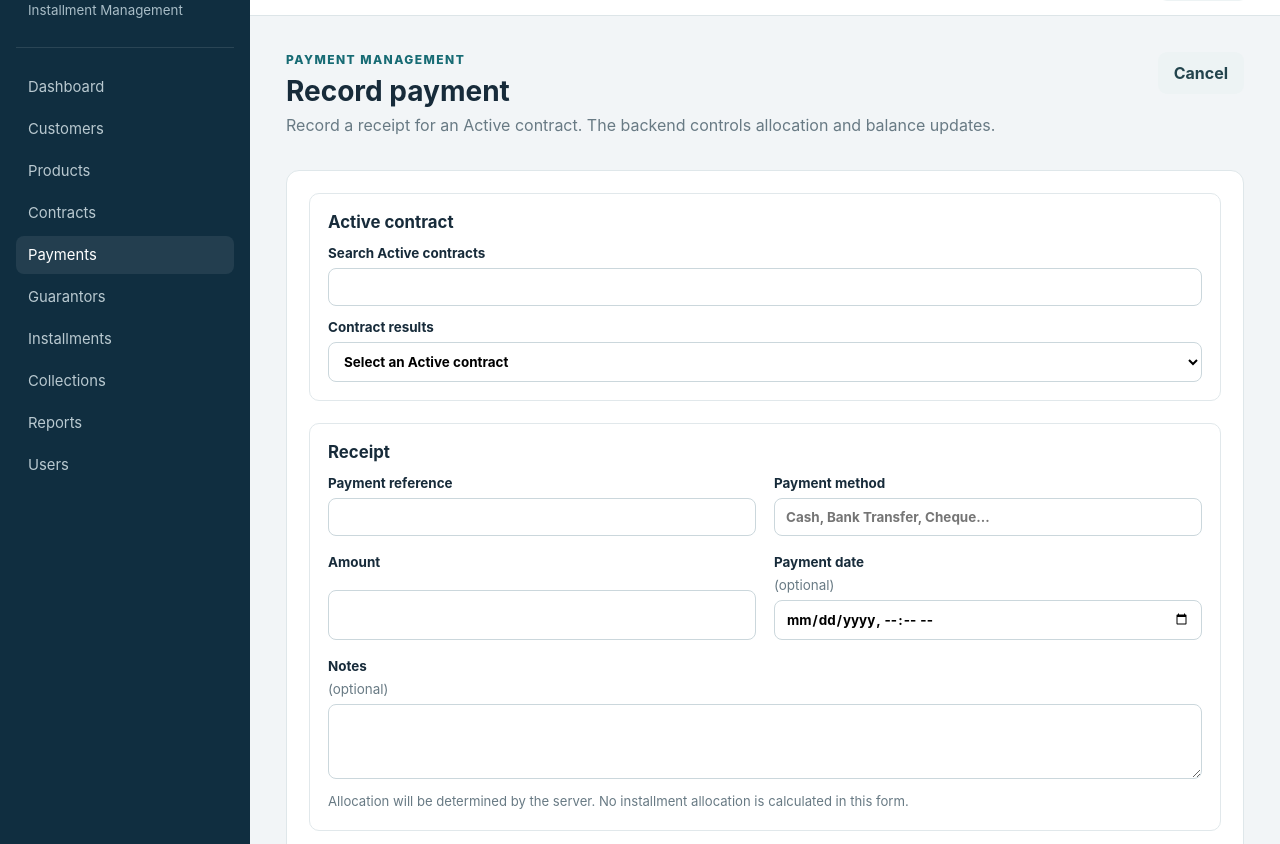
Test: Payments module › validates required and decimal fields without calculating allocations
Expected: the heading "Record payment" is shown, [286,74,510,108]
In the field labelled "Amount": (542,615) [328,590,756,640], type "1.234"
(page scrolled)
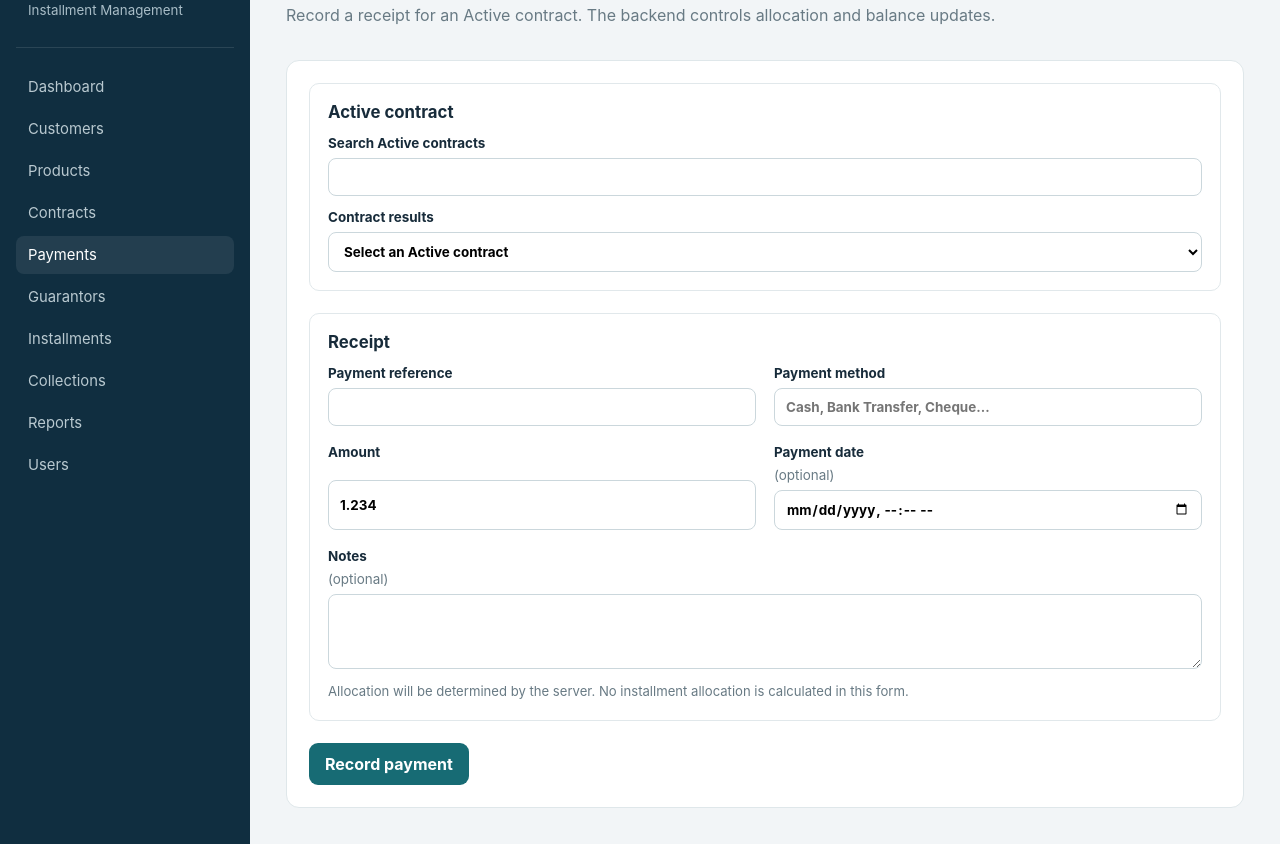
Click the button "Record payment": (389,764) [309,743,469,785]
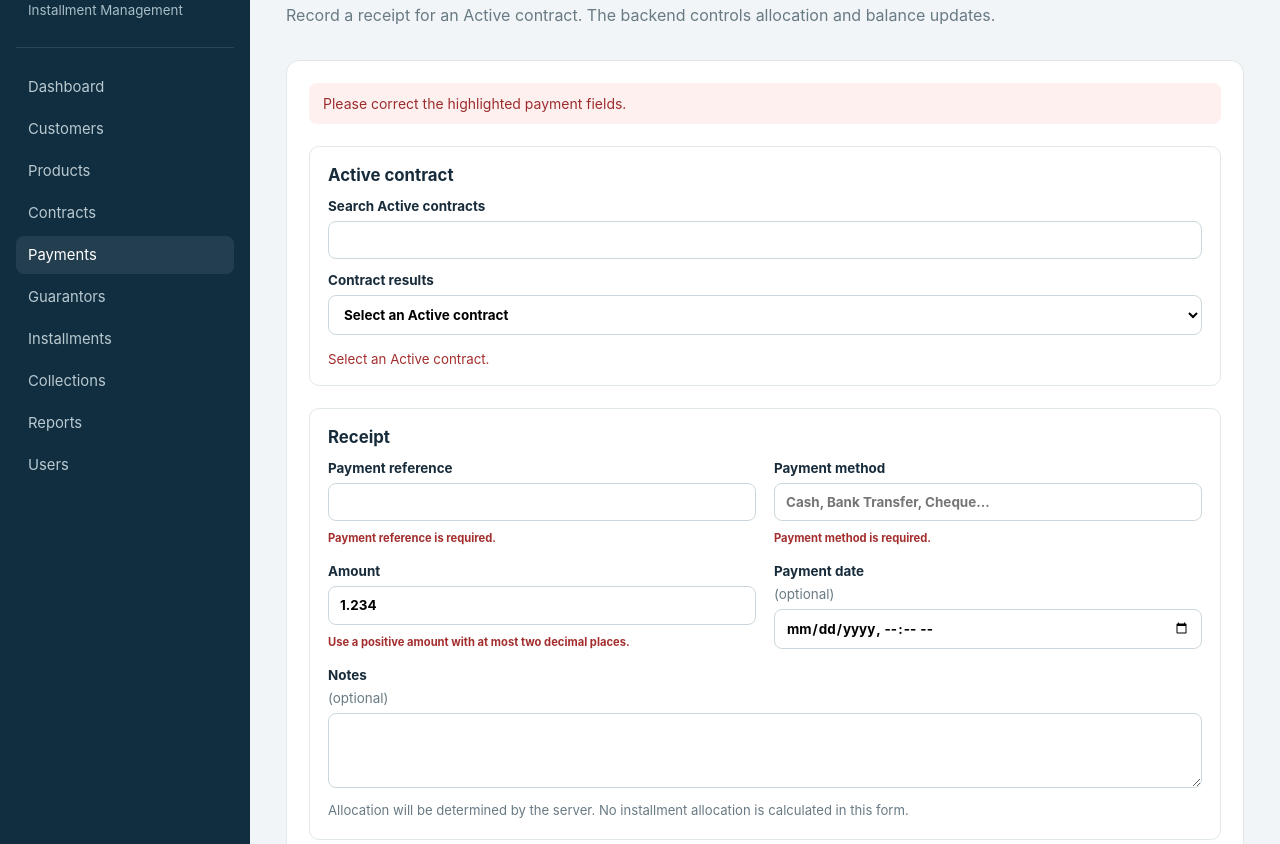
Expected: the message shows "correct the highlighted", [323,95,626,112]
Expected: the text "Use a positive amount with at most two decimal places." is shown, [328,635,630,649]
